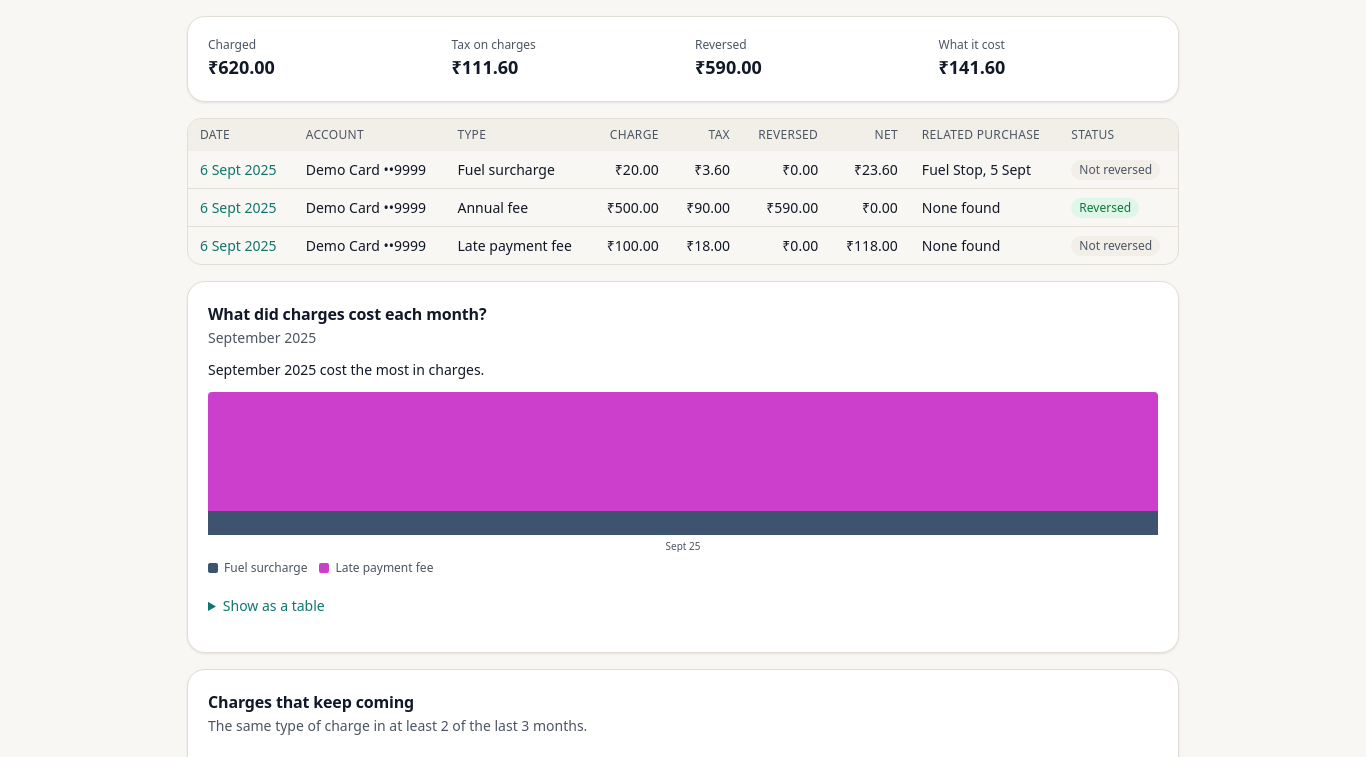
Test: FeesPage › without recorded terms it only says to check the card’s terms
Click the button "6 Sept 2025" in the row of "₹100.00": [238, 246] box left=200, top=236, right=277, bottom=256
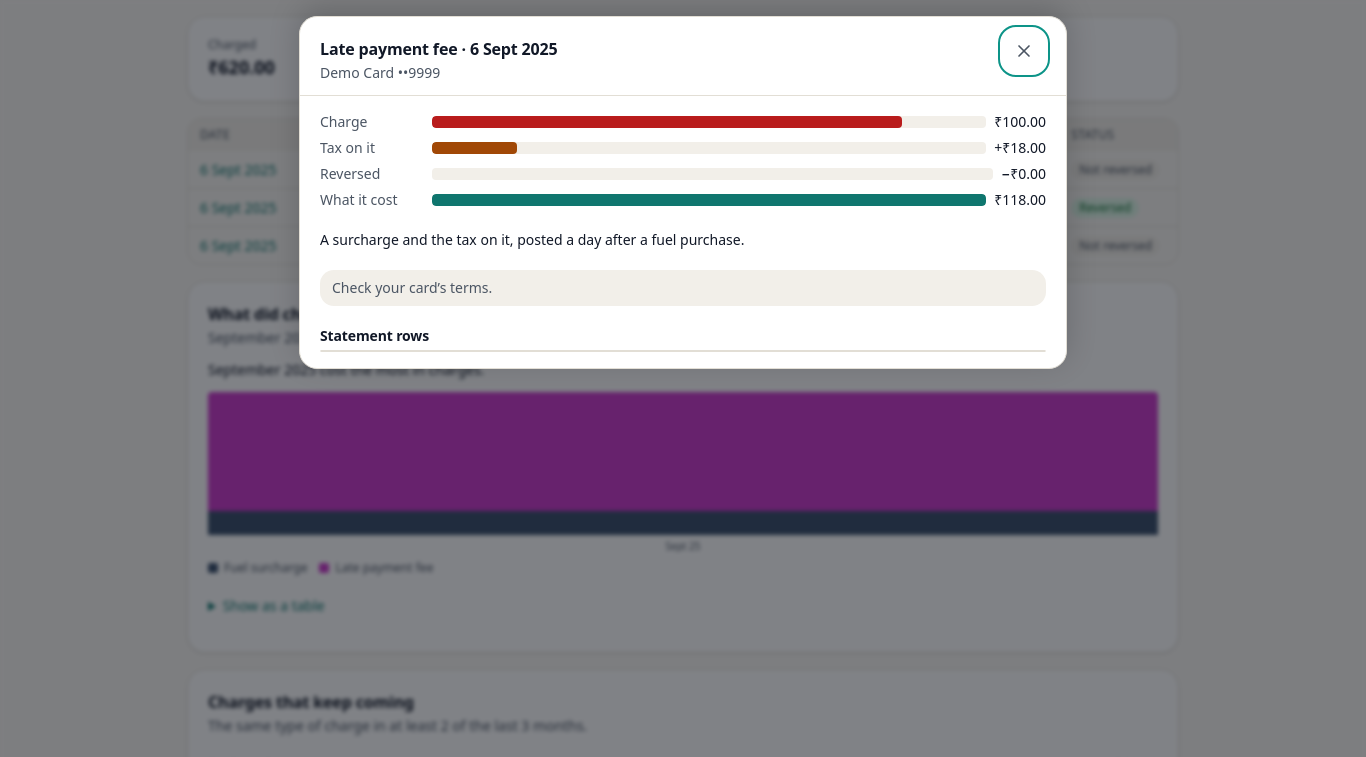
Result: the text "Check your card’s terms." is shown at left=320, top=270, right=1046, bottom=306
